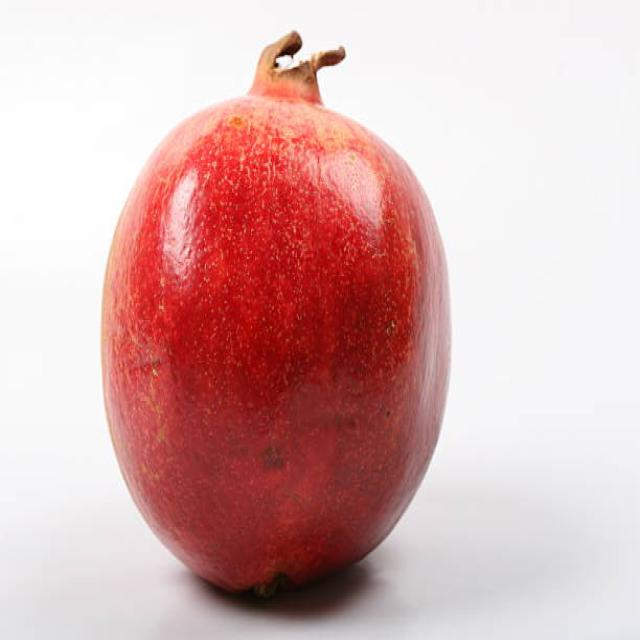Ripe: (94, 24, 456, 610)
